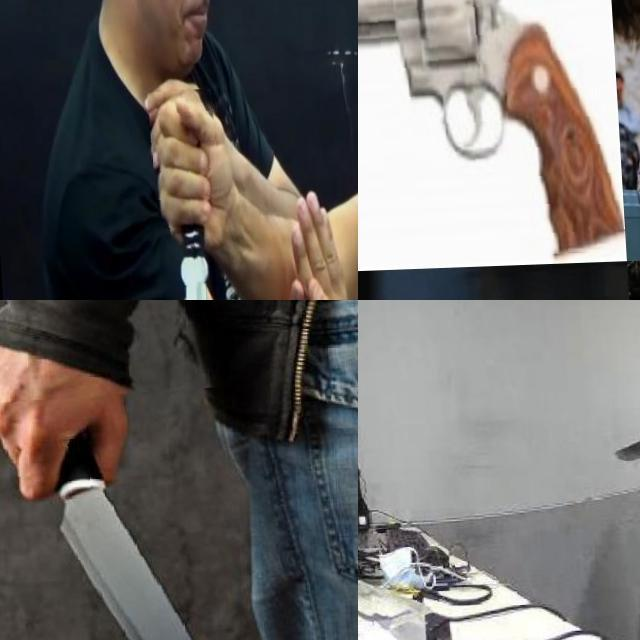-: (0, 391, 246, 640), (146, 89, 233, 300), (605, 410, 640, 472)
gun-knife-thesis - v11 Yolov5 augmented: (358, 0, 620, 268)
